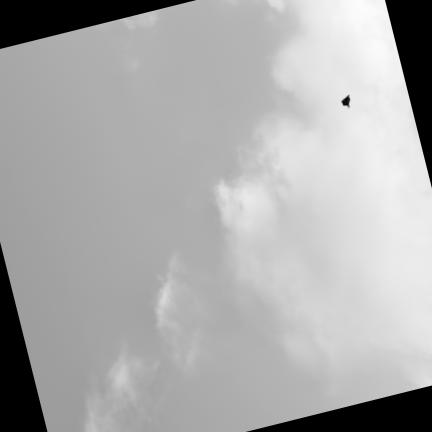Shahed: (340, 92, 351, 107)
